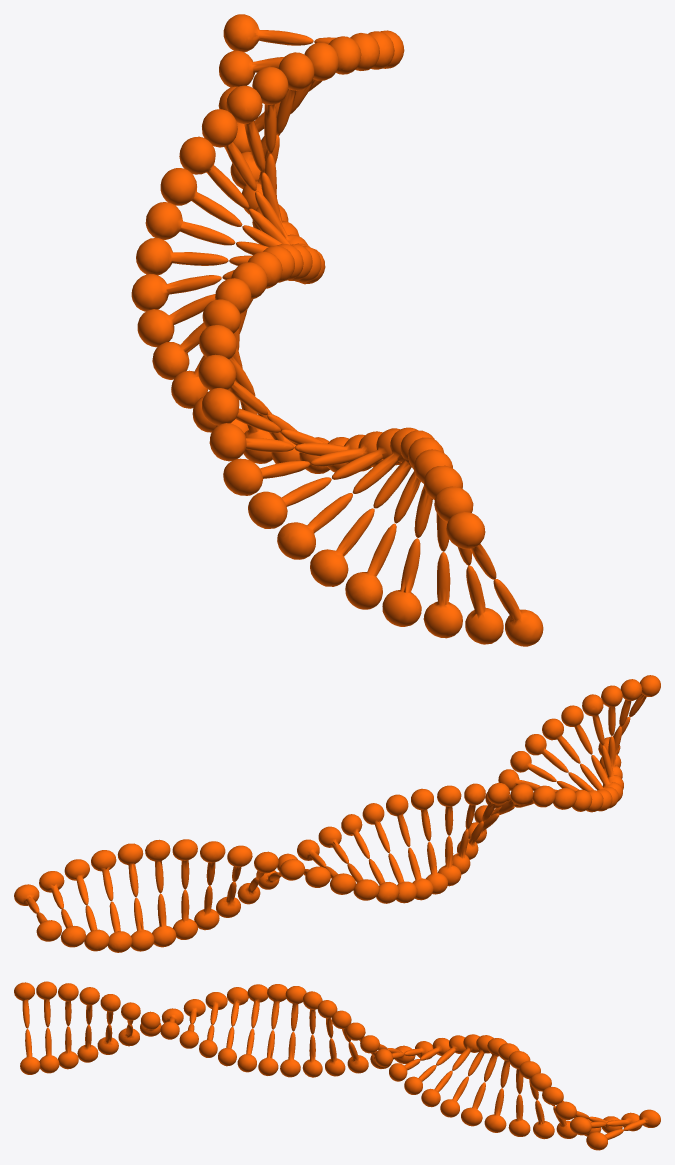
Rendered from dnaorange.glb.
3 views of the same model, one above another, from view 1: azimuth 30°, elevation 25°; view 2: azimuth 150°, elevation 25°; view 3: azimuth 270°, elevation 25° (orthographic). The views are drawn at different scales.
Visible parts, largest first — view 1: DNA; view 2: DNA; view 3: DNA.
Part boxes in pixels (left/top/right/bottom): DNA: left=131, top=14, right=543, bottom=646; DNA: left=14, top=675, right=660, bottom=952; DNA: left=14, top=981, right=660, bottom=1150.
Size of the model in its own units: 1925 by 537 by 3732.
